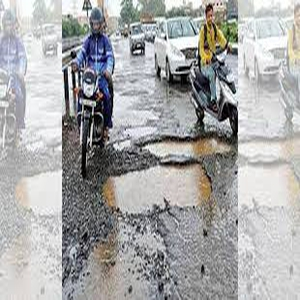pothole: (101, 162, 210, 217), (142, 135, 238, 159)
